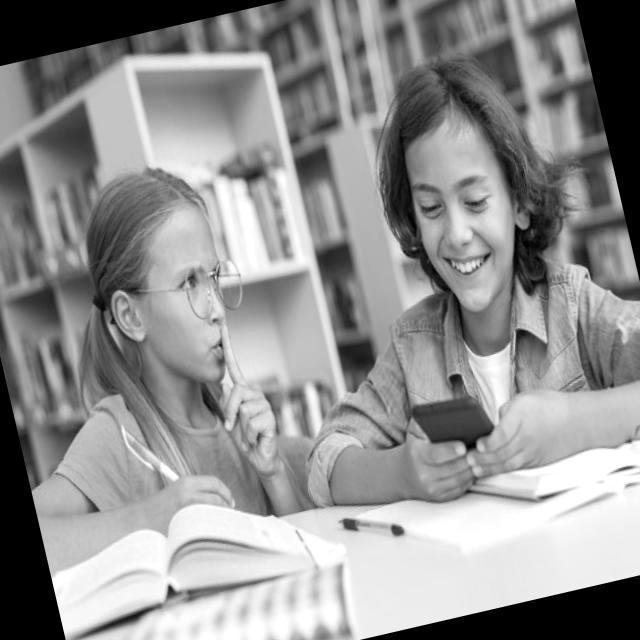phone: (408, 388, 498, 460)
